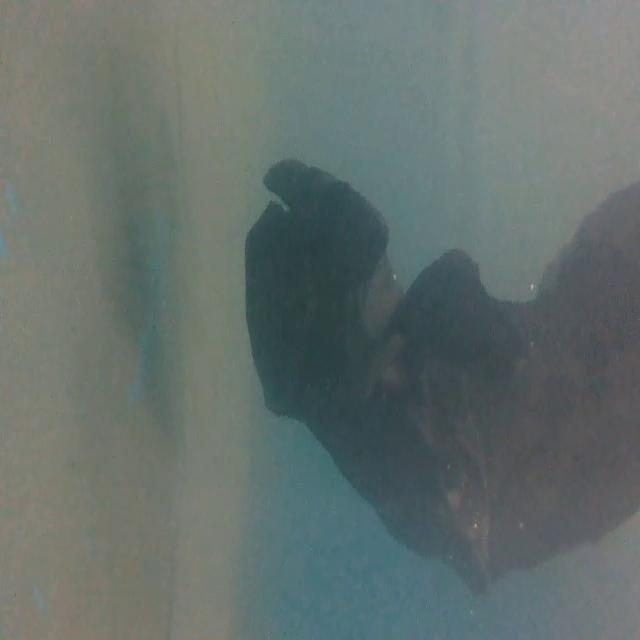plastic bags: (241, 155, 640, 601)
